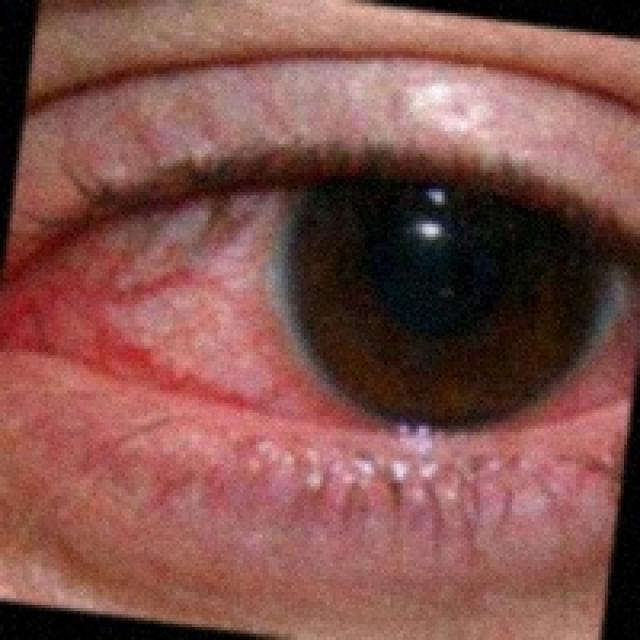Keratitis: (0, 103, 618, 519)
